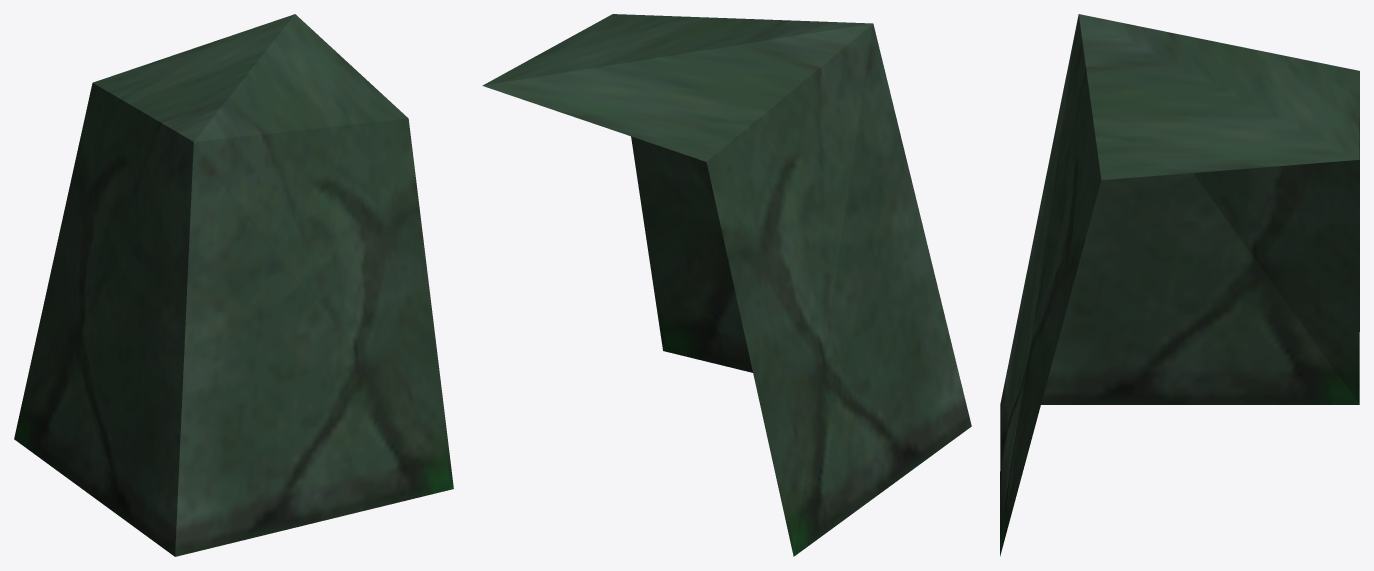
Rendered from stemple_cap_convex_02.fbx.
The picture shows the model from 3 angles, left to right: view 1: azimuth 30°, elevation 25°; view 2: azimuth 150°, elevation 25°; view 3: azimuth 270°, elevation 25°; orthographic projection. The views are drawn at different scales.
Parts seen in each view (by area): view 1: obj0.237; view 2: obj0.237; view 3: obj0.237.
Boxes of the visible parts, x1,y1,x2,y2 form: obj0.237: (14, 14, 453, 556); obj0.237: (482, 14, 971, 556); obj0.237: (1000, 14, 1359, 556).
Bounding box in the file's own units: 0.4164 × 0.5324 × 0.4131.
